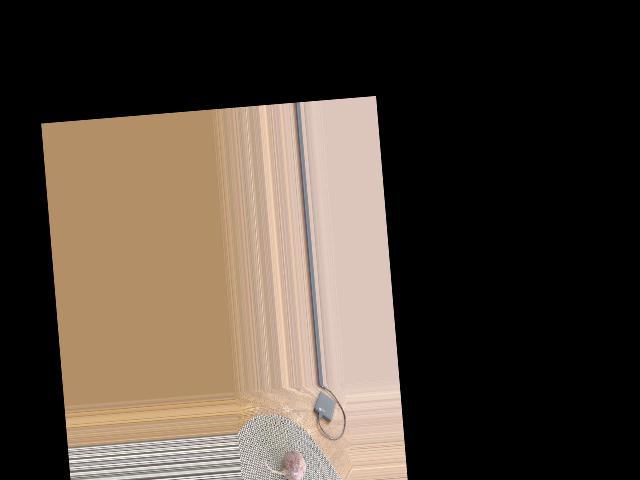beet: (263, 449, 306, 480)
